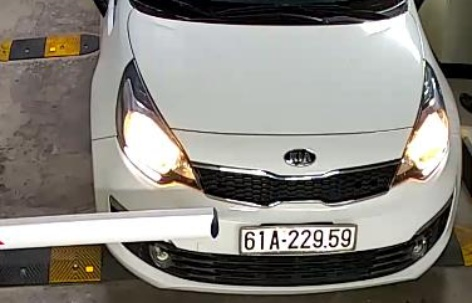plate: (239, 215, 360, 262)
